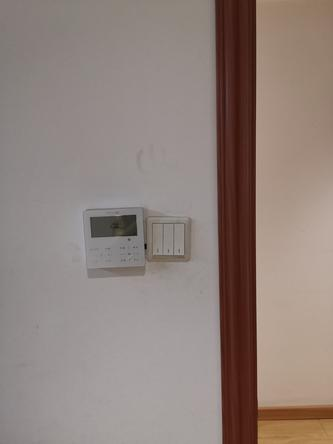switch: (171, 220, 188, 259), (151, 221, 166, 257), (162, 220, 176, 257)
